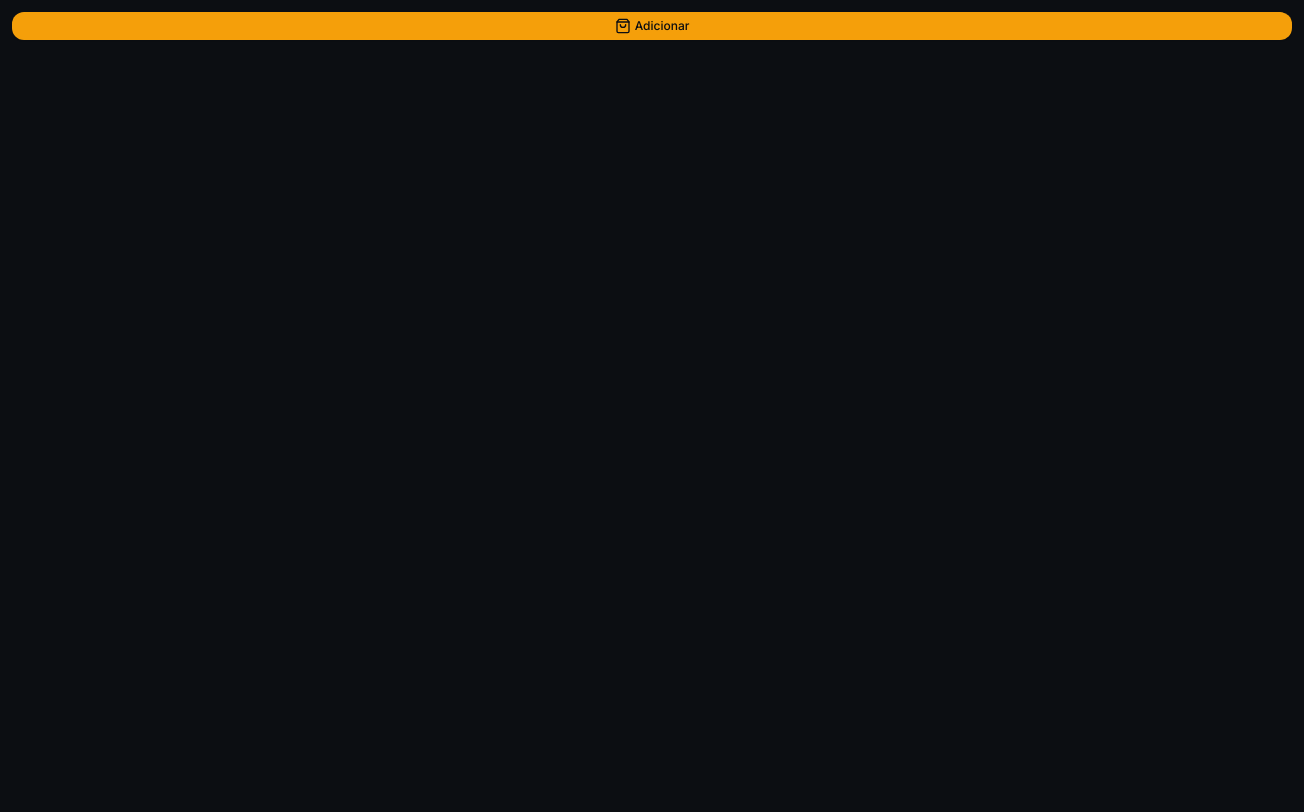
Scenario: carrinho na vitrine › Adicionar vira − quantidade + e a barra mostra o total
What coordinates should you click on to do the following:
click the button "Adicionar"
I would click on:
 (652, 26)
Its box is [12,12,1292,40].
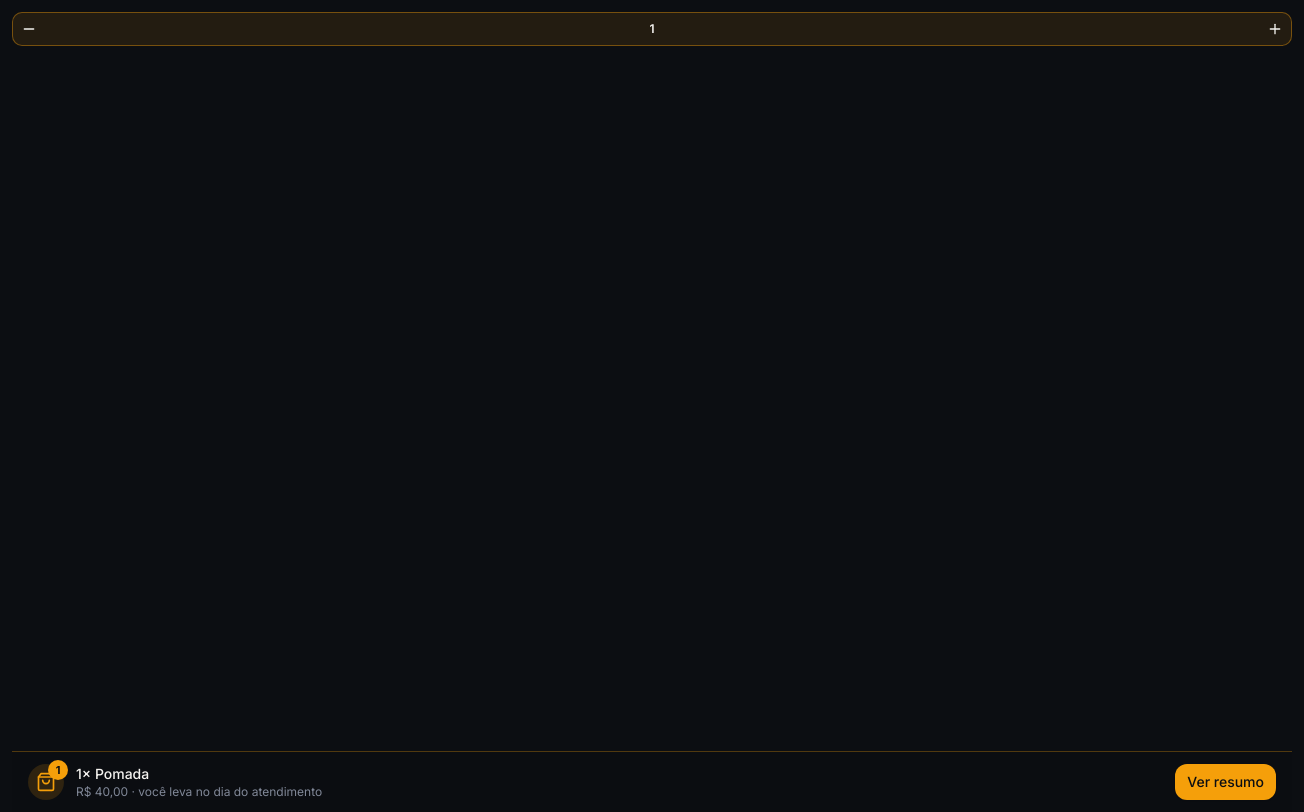
What coordinates should you click on to do the following:
click the button named "aumentar quantidade de pomada"
I would click on:
 (1275, 29)
Its box is [1261,15,1289,43].
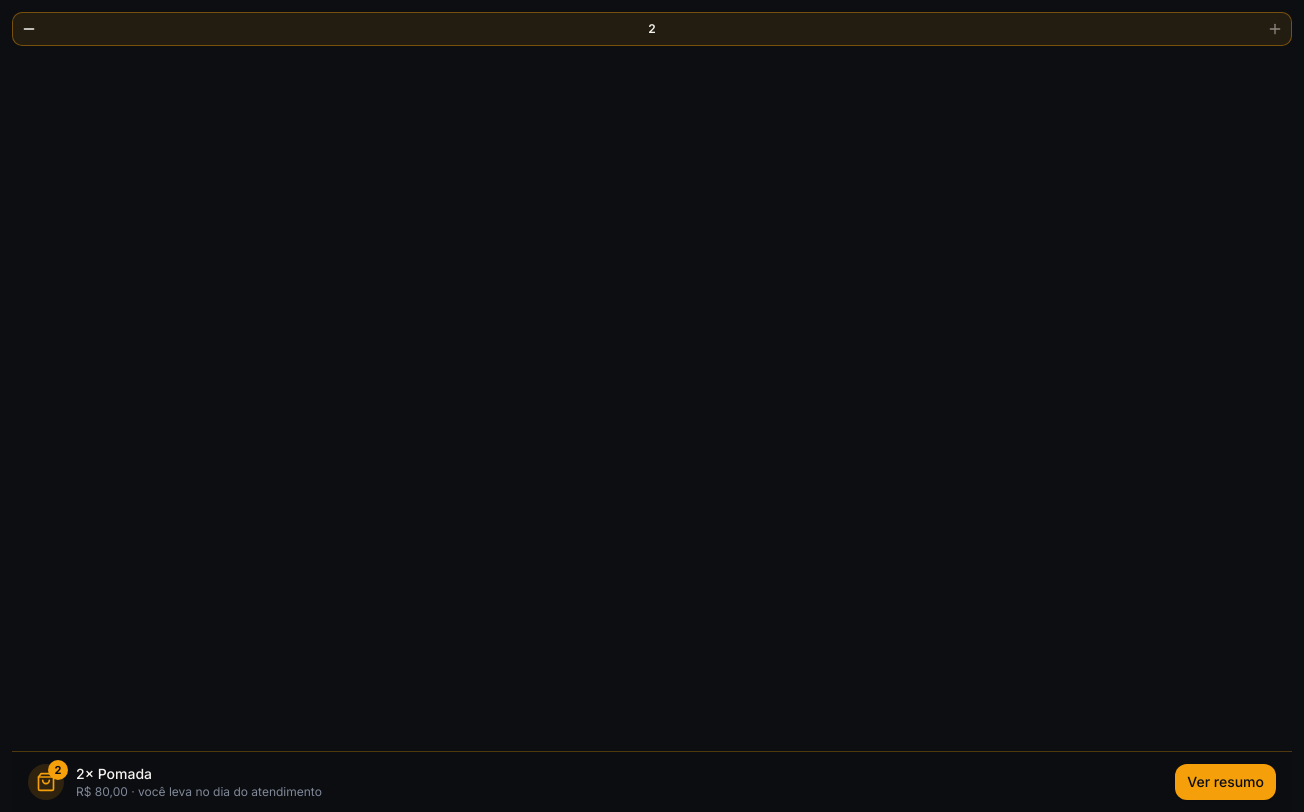
Check: the text "2× Pomada" is shown, box [76,765,152,782]
Check: the text "R$ 80,00 · você leva no dia do atendimento" is shown, box [76,784,322,799]
Check: the button named "sem mais unidades de pomada" is disabled, box [1261,15,1289,43]
